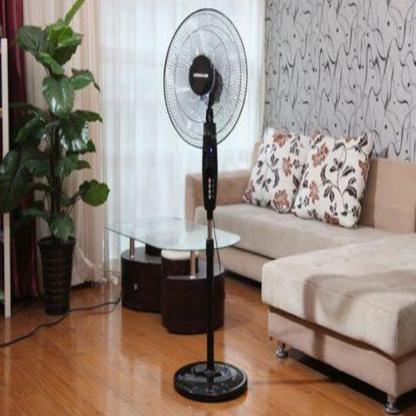fan: (154, 2, 254, 411)
